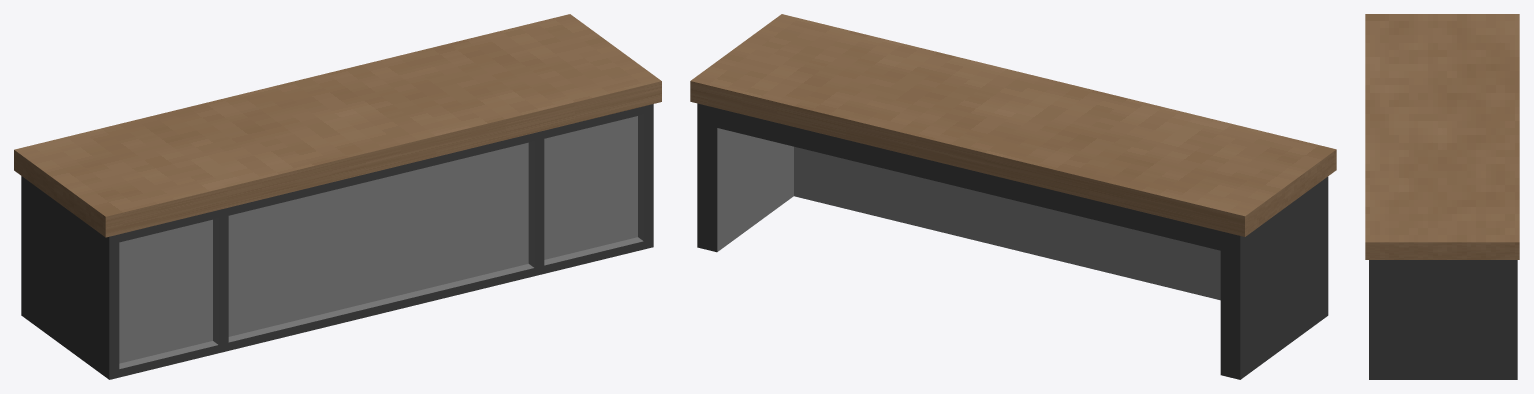
File: counter.glb
The picture shows the model from 3 angles, left to right: view 1: azimuth 30°, elevation 25°; view 2: azimuth 150°, elevation 25°; view 3: azimuth 270°, elevation 25°; orthographic projection. The views are drawn at different scales.
Parts seen in each view (by area): view 1: Base2; view 2: Base2; view 3: Base2.
Part boxes in pixels (x1,y1,x2,y2): Base2: (14, 14, 661, 379); Base2: (690, 14, 1336, 379); Base2: (1365, 14, 1519, 379).
Bounding box in the file's own units: 2.8 × 0.8 × 0.8.
Materials: 3 (1 with a texture image).
